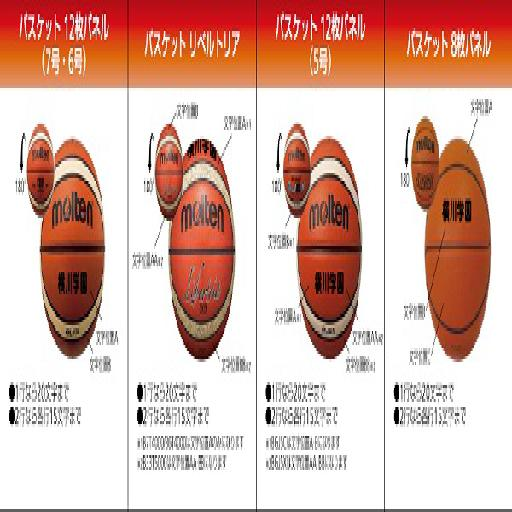ball: (27, 123, 55, 216)
